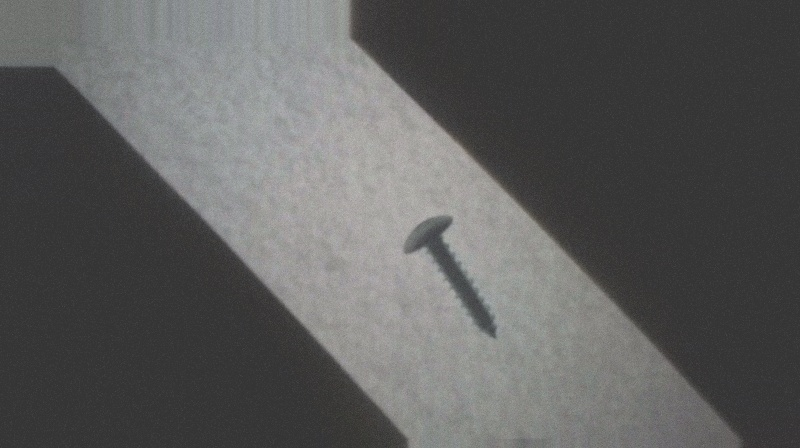S003: (400, 212, 500, 341)
